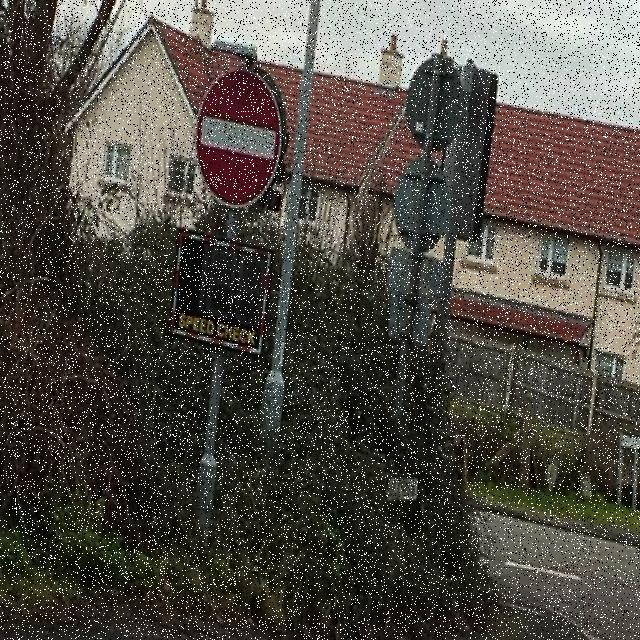no entry: (195, 67, 281, 208)
